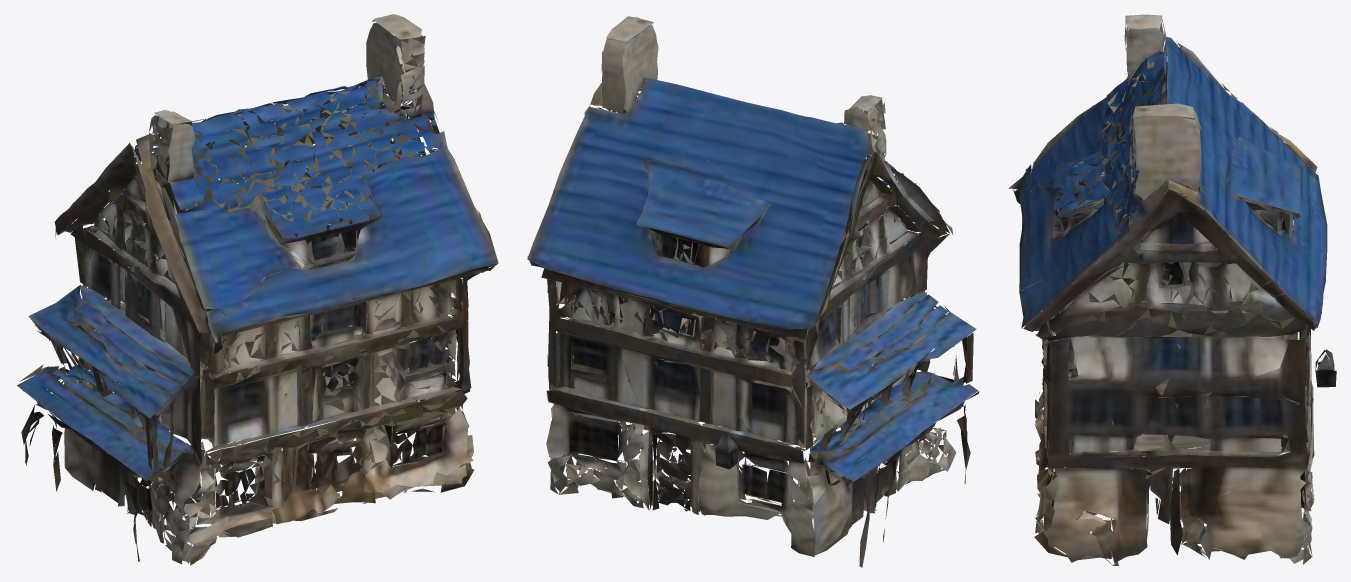
The model's file is house.glb.
The picture shows the model from 3 angles, left to right: view 1: azimuth 30°, elevation 25°; view 2: azimuth 150°, elevation 25°; view 3: azimuth 270°, elevation 25°; orthographic projection. The views are drawn at different scales.
Visible parts, largest first — view 1: reference; view 2: reference; view 3: reference.
Boxes of the visible parts, x1=… form: reference: x1=17, y1=14, x2=498, y2=565; reference: x1=527, y1=16, x2=979, y2=567; reference: x1=1008, y1=14, x2=1336, y2=565.
Bounding box in the file's own units: 5 × 6 × 3.97.
1 material, 1 textured.
